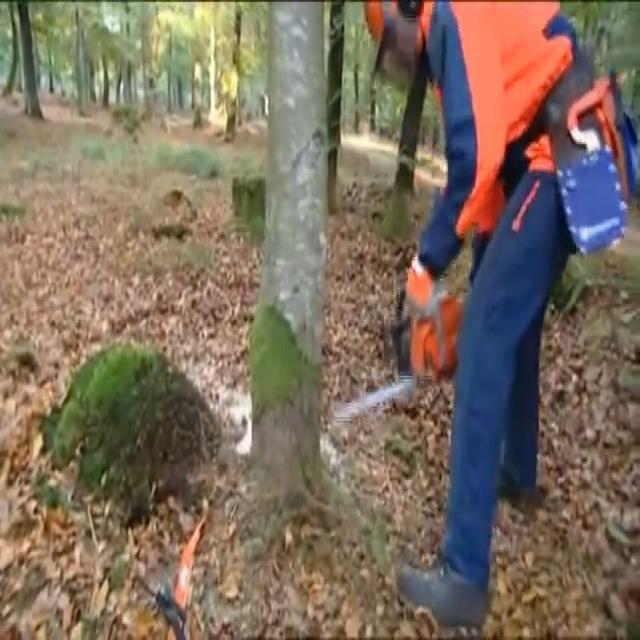Chainsaw: (307, 253, 483, 440)
